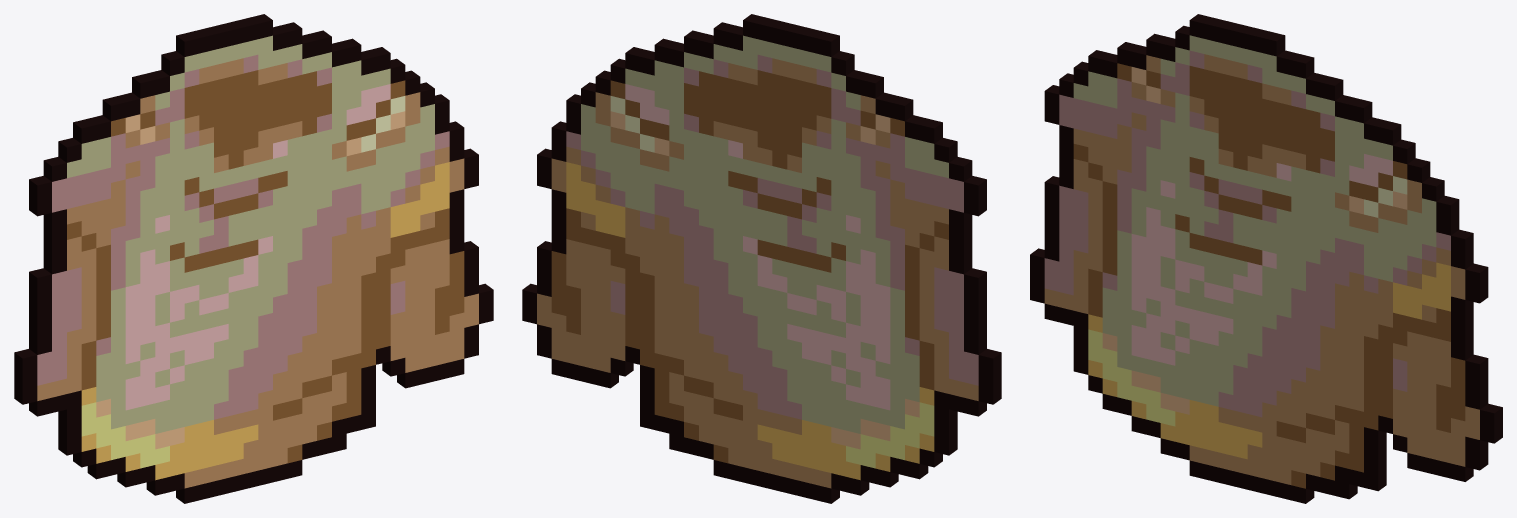
File: A_Clothing02.fbx
3 renders of one model, left to right at view 1: azimuth 30°, elevation 25°; view 2: azimuth 150°, elevation 25°; view 3: azimuth 330°, elevation 25°, orthographic.
Visible parts, largest first — view 1: Default; view 2: Default; view 3: Default.
Part boxes in pixels (x1,y1,x2,y2): Default: [14, 14, 493, 503]; Default: [522, 14, 1001, 503]; Default: [1030, 14, 1502, 503].
Bounding box in the file's own units: 32 × 30 × 1.
Materials: 1 (1 with a texture image).
